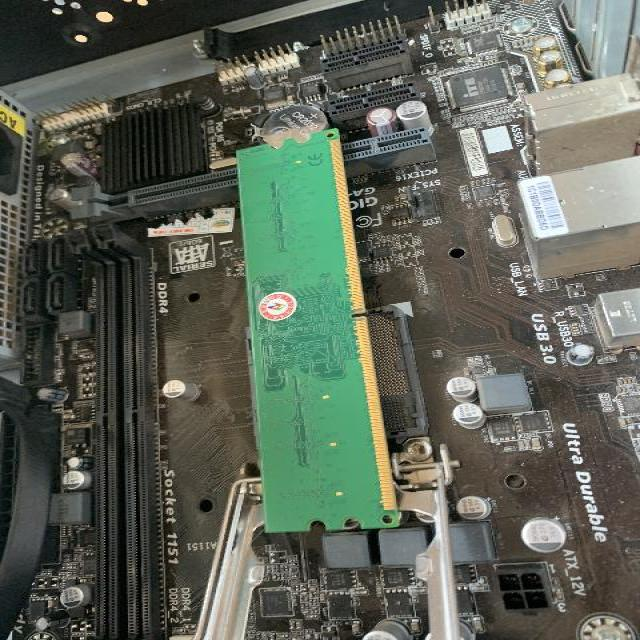Mainboard: (0, 0, 640, 640)
RAM: (236, 128, 409, 534)
